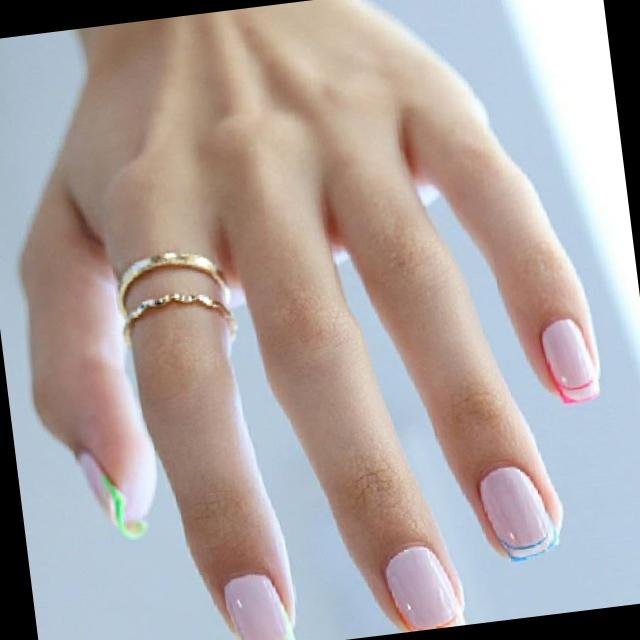Nail: (479, 465, 557, 559), (384, 544, 464, 630), (76, 450, 145, 538), (540, 317, 598, 403), (222, 572, 294, 640)
